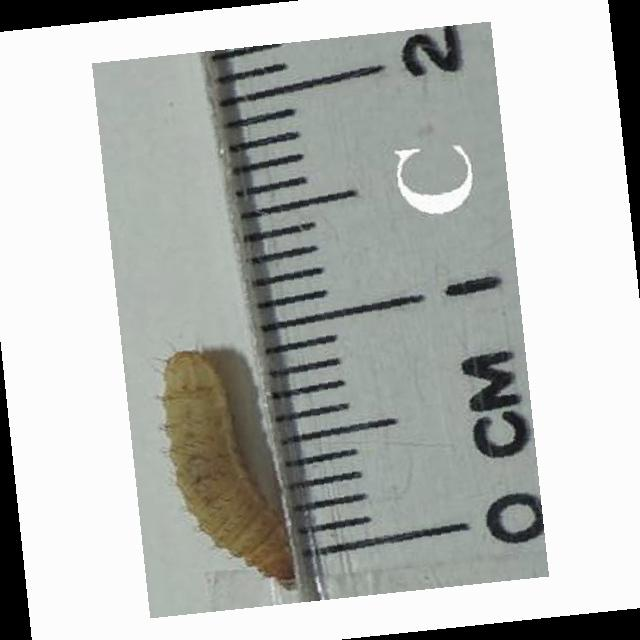Maggot: (159, 345, 301, 590)
